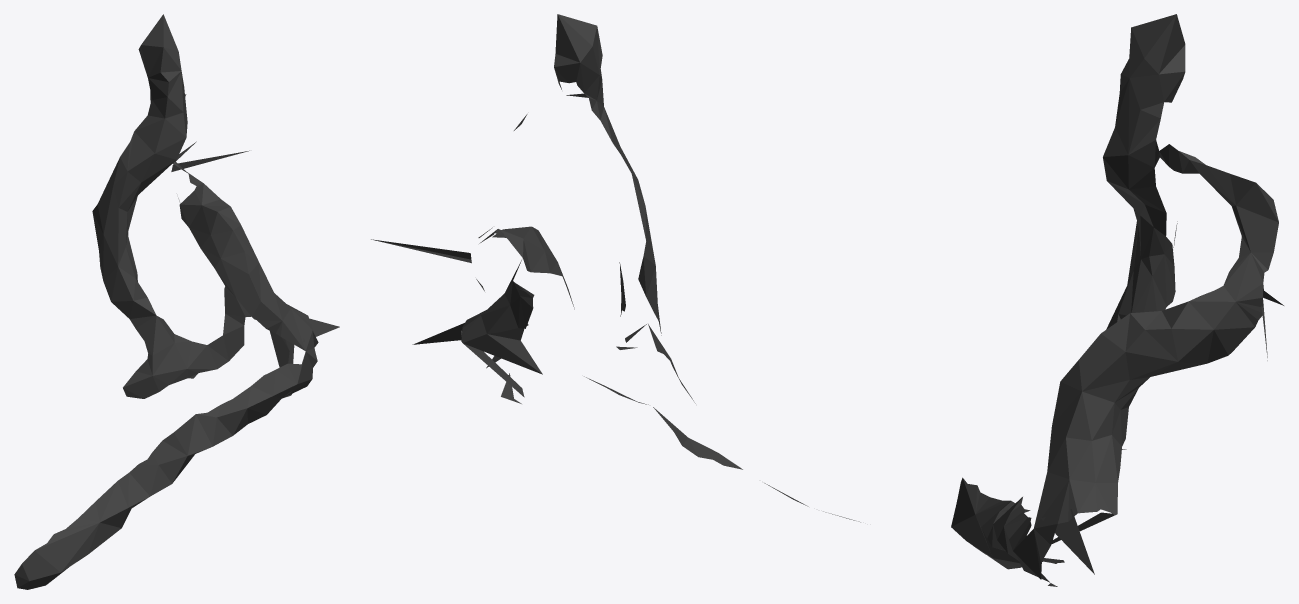
The model's file is A_coeliac_branches_A_coeliac_branches.glb.
3 views of the same model, side by side, from view 1: azimuth 30°, elevation 25°; view 2: azimuth 150°, elevation 25°; view 3: azimuth 270°, elevation 25° (orthographic). The views are drawn at different scales.
Parts seen in each view (by area): view 1: A_coeliac_branches_A_coeliac_branches; view 2: A_coeliac_branches_A_coeliac_branches; view 3: A_coeliac_branches_A_coeliac_branches.
Boxes of the visible parts, x1,y1,x2,y2 form: A_coeliac_branches_A_coeliac_branches: (14,14,339,589); A_coeliac_branches_A_coeliac_branches: (371,14,860,522); A_coeliac_branches_A_coeliac_branches: (951,14,1283,586).
Size of the model in its own units: 0.0188 by 0.0228 by 0.0104.
Materials: 1 (1 with a texture image).
